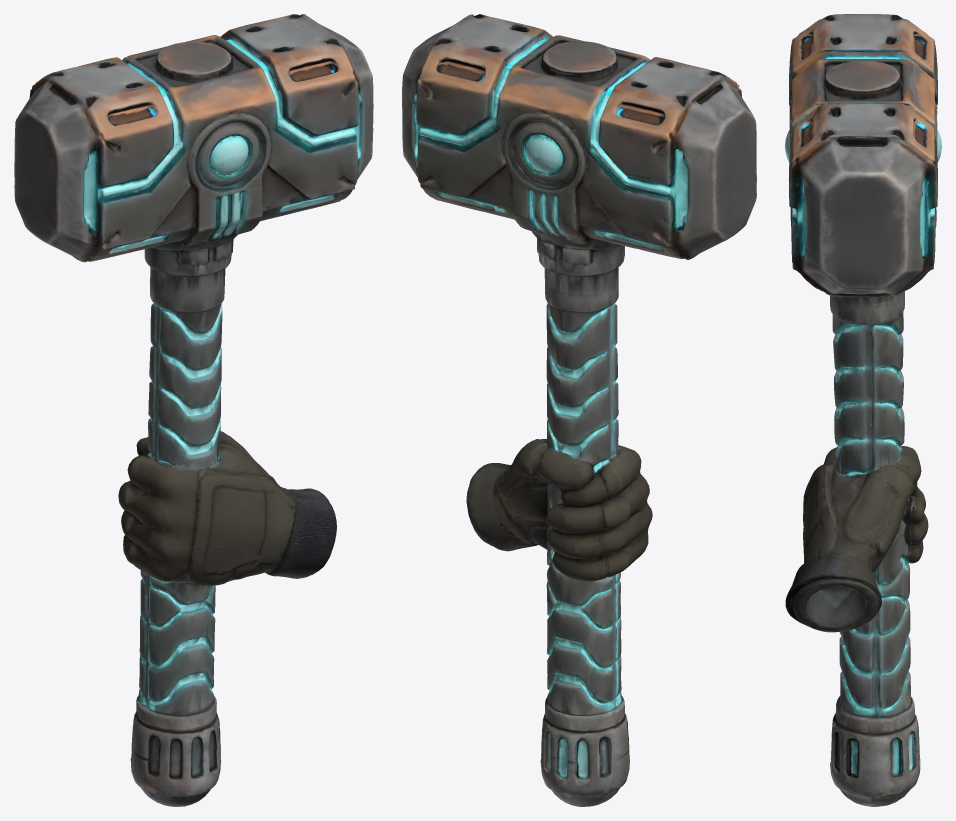
The model's file is hammer_low_poly_left.glb.
3 renders of one model, left to right at view 1: azimuth 30°, elevation 25°; view 2: azimuth 150°, elevation 25°; view 3: azimuth 270°, elevation 25°, orthographic.
Parts seen in each view (by area): view 1: Mesh_0; view 2: Mesh_0; view 3: Mesh_0.
Part boxes in pixels (x1,y1,x2,y2): Mesh_0: (14,14,373,806); Mesh_0: (402,14,756,806); Mesh_0: (785,14,941,806).
Size of the model in its own units: 0.8489 by 1.9 by 0.37.
1 material, 1 textured.
